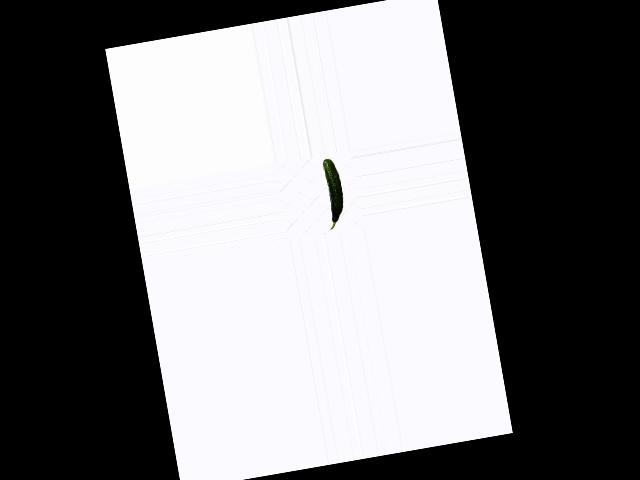cucumber: (318, 157, 348, 230)
